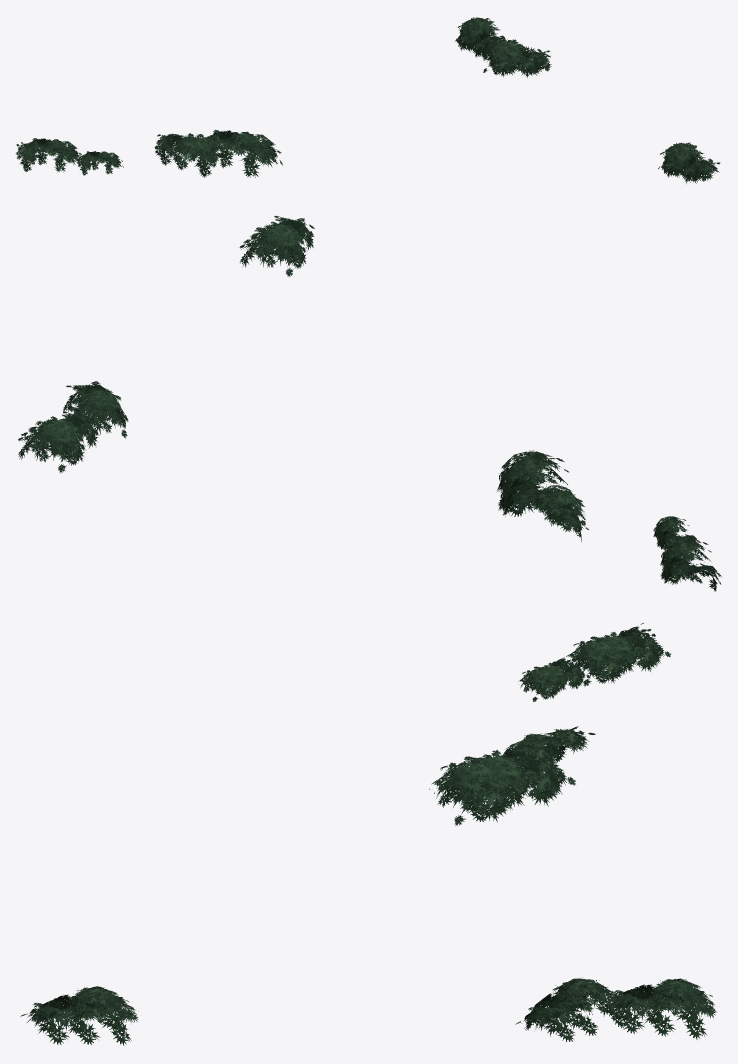
File: zhibei04.fbx
The picture shows the model from 3 angles, top to bottom: view 1: azimuth 30°, elevation 25°; view 2: azimuth 150°, elevation 25°; view 3: azimuth 270°, elevation 25°; orthographic projection. The views are drawn at different scales.
Visible parts, largest first — view 1: zhibei04; view 2: zhibei04; view 3: zhibei04.
Part boxes in pixels (left/top/right/bottom): zhibei04: left=15, top=17, right=720, bottom=183; zhibei04: left=18, top=215, right=721, bottom=591; zhibei04: left=20, top=623, right=716, bottom=1045.
Bounding box in the file's own units: 3566 × 321 × 2667.
